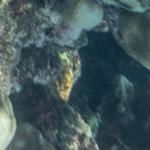dead: (2, 3, 146, 144)
